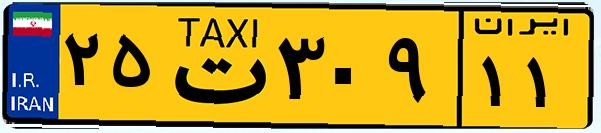0: (330, 28, 385, 110)
1: (475, 38, 525, 113), (525, 38, 570, 115)
2: (57, 26, 110, 100)
3: (270, 28, 330, 110)
5: (110, 28, 158, 98)
9: (385, 28, 445, 110)
ت: (158, 12, 270, 120)
